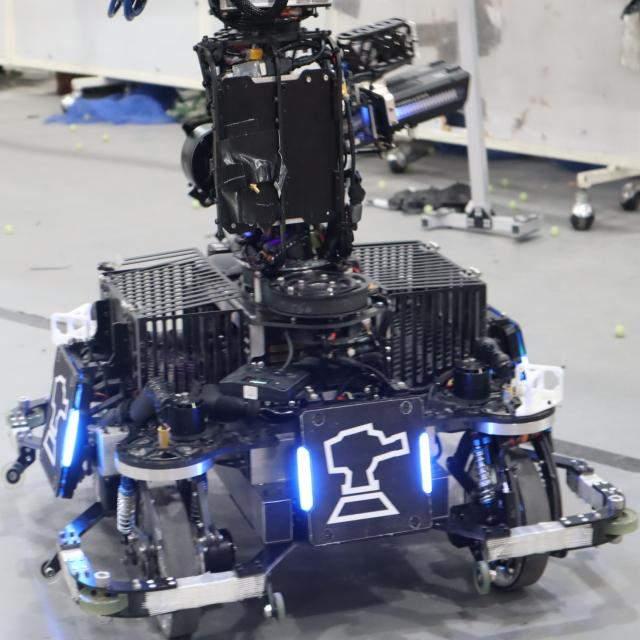Bs: (292, 391, 441, 546), (39, 348, 91, 497)
